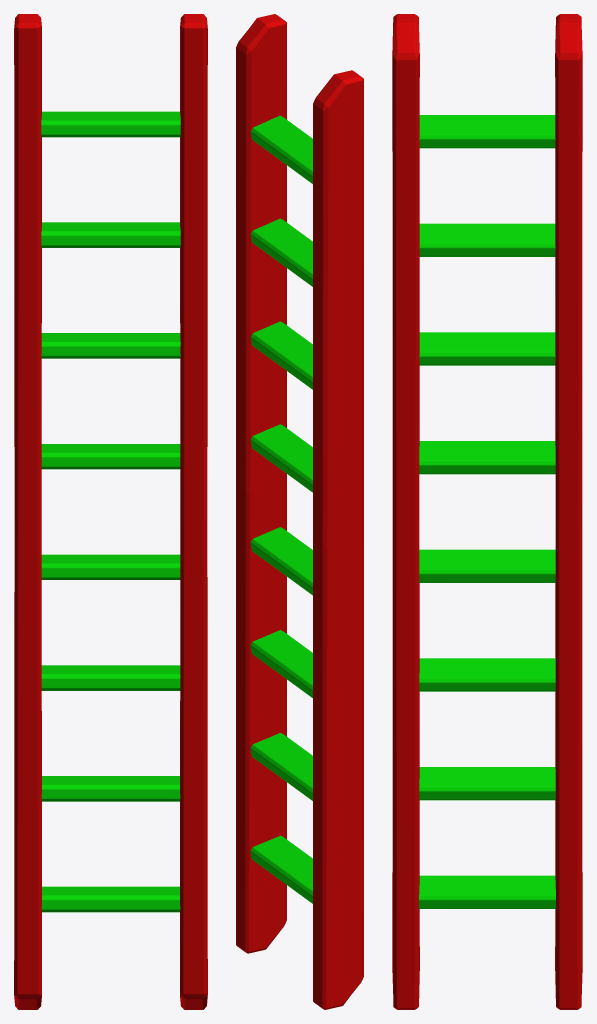
File: BAKE_Ladder_Clean_high.fbx
3 renders of one model, left to right at view 1: azimuth 90°, elevation 25°; view 2: azimuth 210°, elevation 25°; view 3: azimuth 270°, elevation 25°, orthographic. The views are drawn at different scales.
Parts seen in each view (by area): view 1: Btm_high; view 2: Btm_high; view 3: Btm_high.
Boxes of the visible parts, <box> form: Btm_high: <box>14,14,207,1009</box>; Btm_high: <box>236,14,363,1009</box>; Btm_high: <box>392,14,582,1009</box>.
Size of the model in its own units: 15 by 315 by 55.51.
